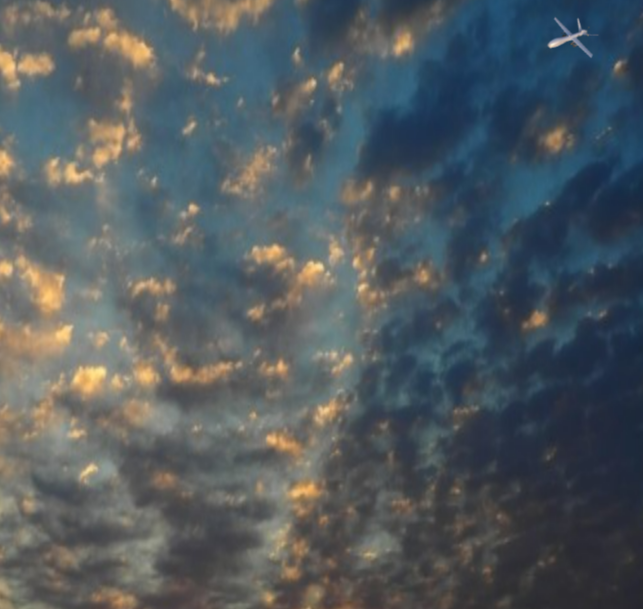military drone: (547, 16, 599, 58)
